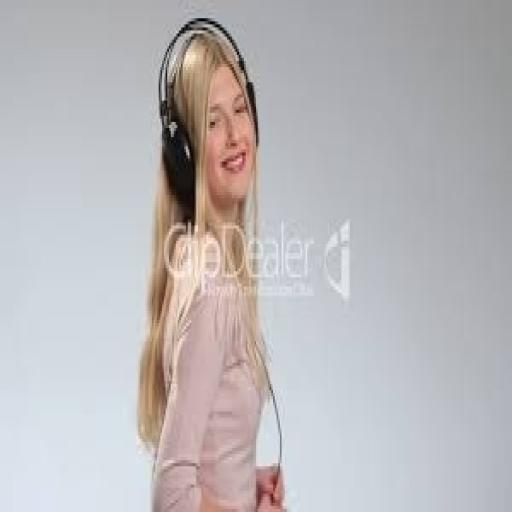listening_to_music: (135, 15, 287, 509), (155, 12, 258, 207)
